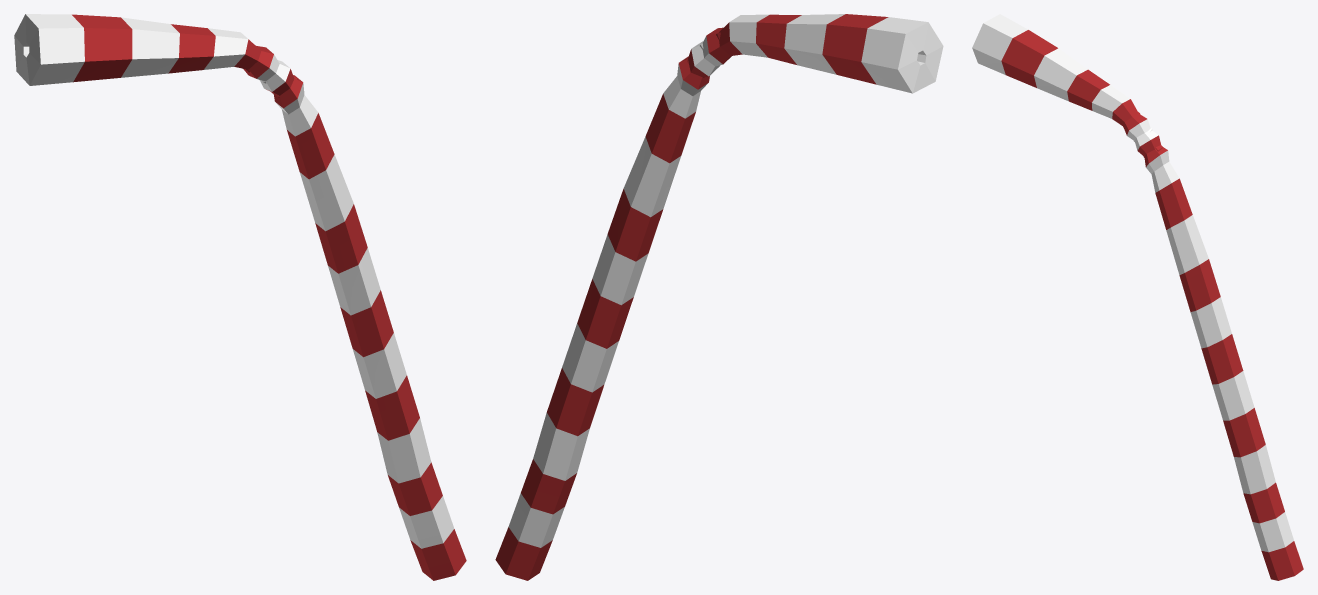
File: straw.fbx
3 renders of one model, left to right at view 1: azimuth 30°, elevation 25°; view 2: azimuth 150°, elevation 25°; view 3: azimuth 330°, elevation 25°, orthographic. The views are drawn at different scales.
Visible parts, largest first — view 1: Straw; view 2: Straw; view 3: Straw.
Part boxes in pixels (x1,y1,x2,y2): Straw: (14,14,466,580); Straw: (495,14,943,580); Straw: (972,14,1303,580).
Size of the model in its own units: 190 by 272 by 35.37.
